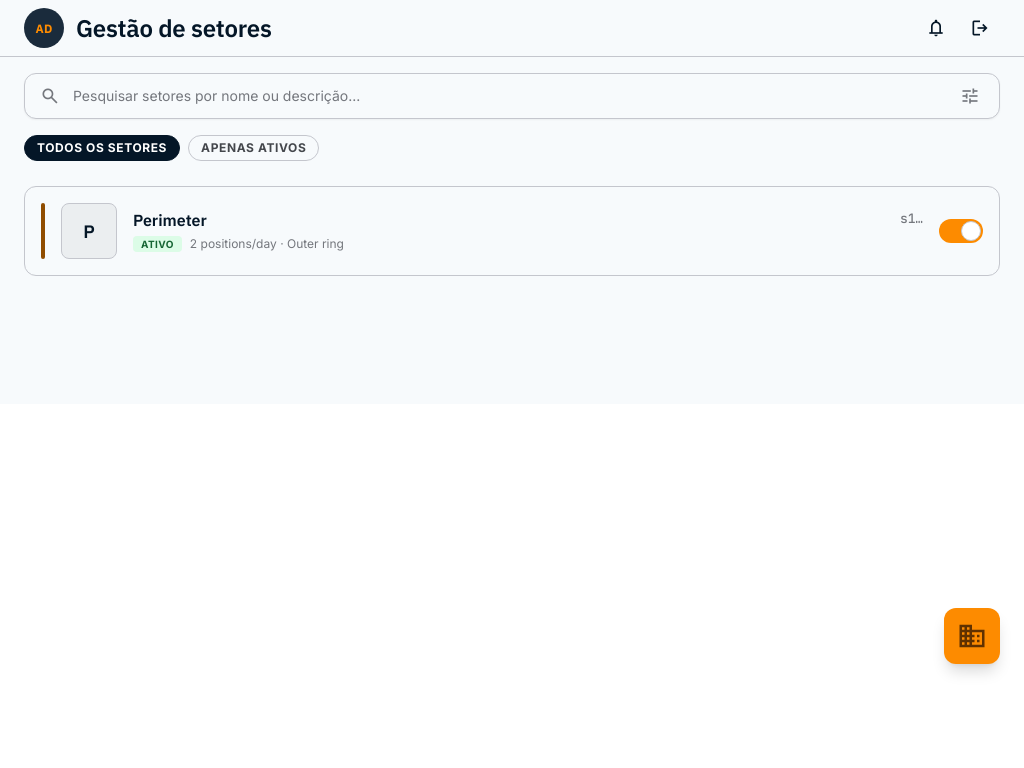
Test: SectorsPage › submits create and refreshes list
The width and height of the screenshot is (1024, 768).
Expected: the button "Perimeter" is shown, [133,210,207,232]
Click the button named "adicionar setor" at (972, 636), box [944,608,1000,664]
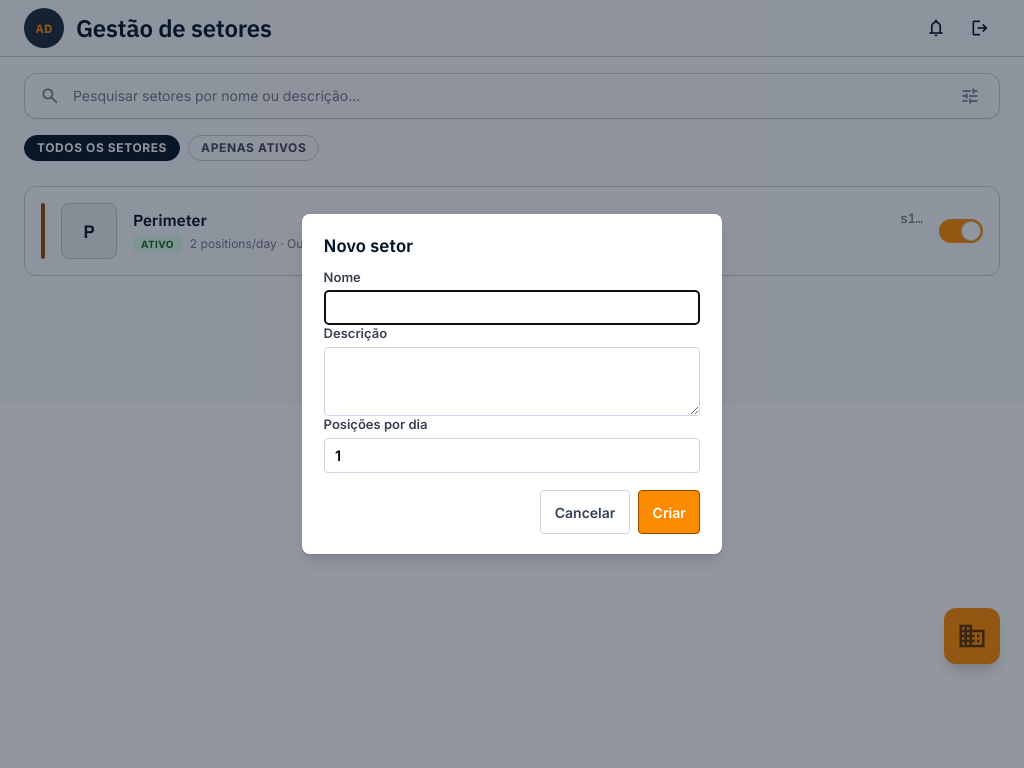
Type "Lobby" into the field labelled "Nome" at (512, 308), box [324,290,700,325]
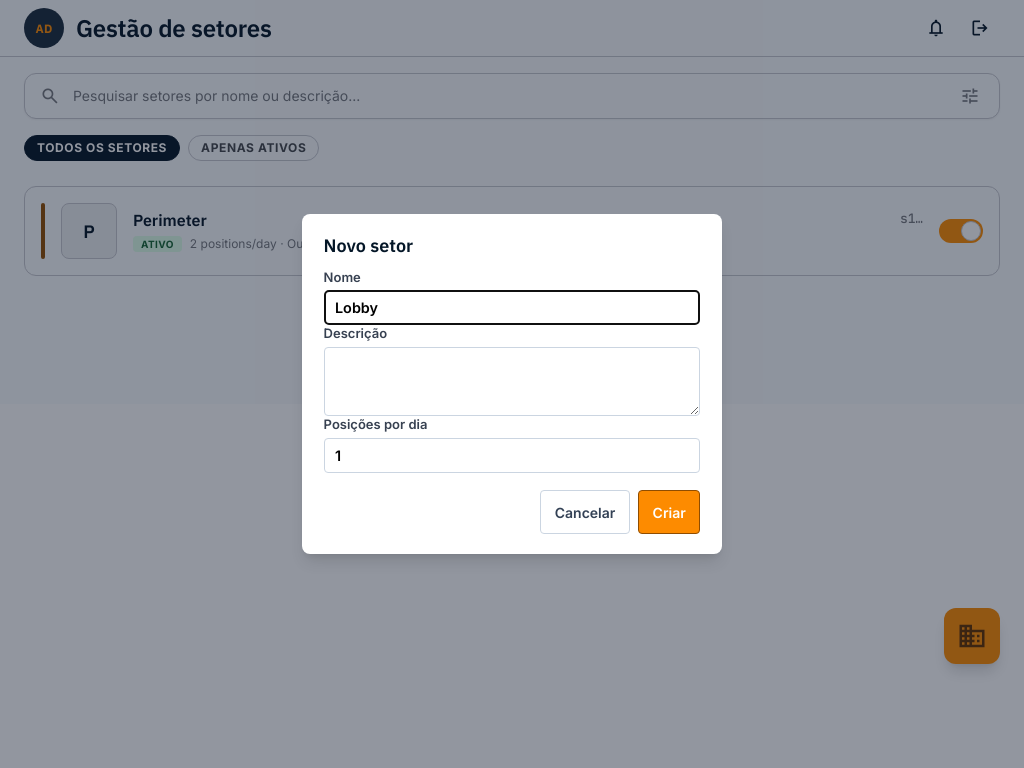
Type "Main entrance" into the text box labelled "Descrição" at (512, 382), box [324,347,700,416]
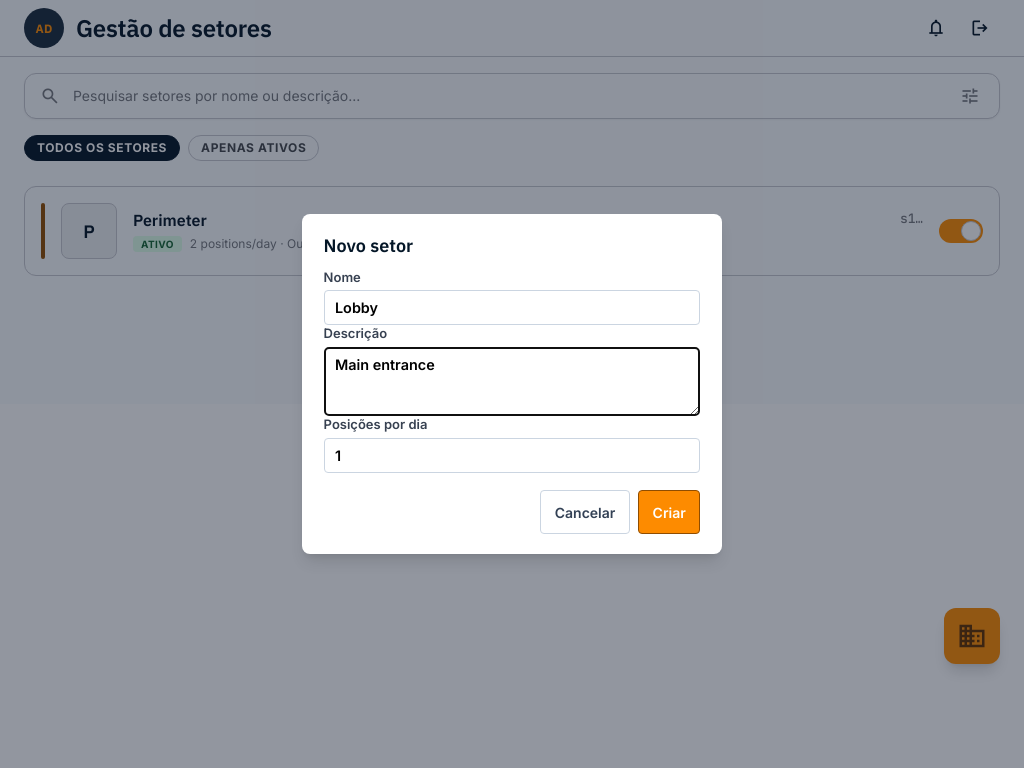
Replace the text in the number field labelled "Posições por dia" with "3" at (512, 455), box [324,438,700,473]
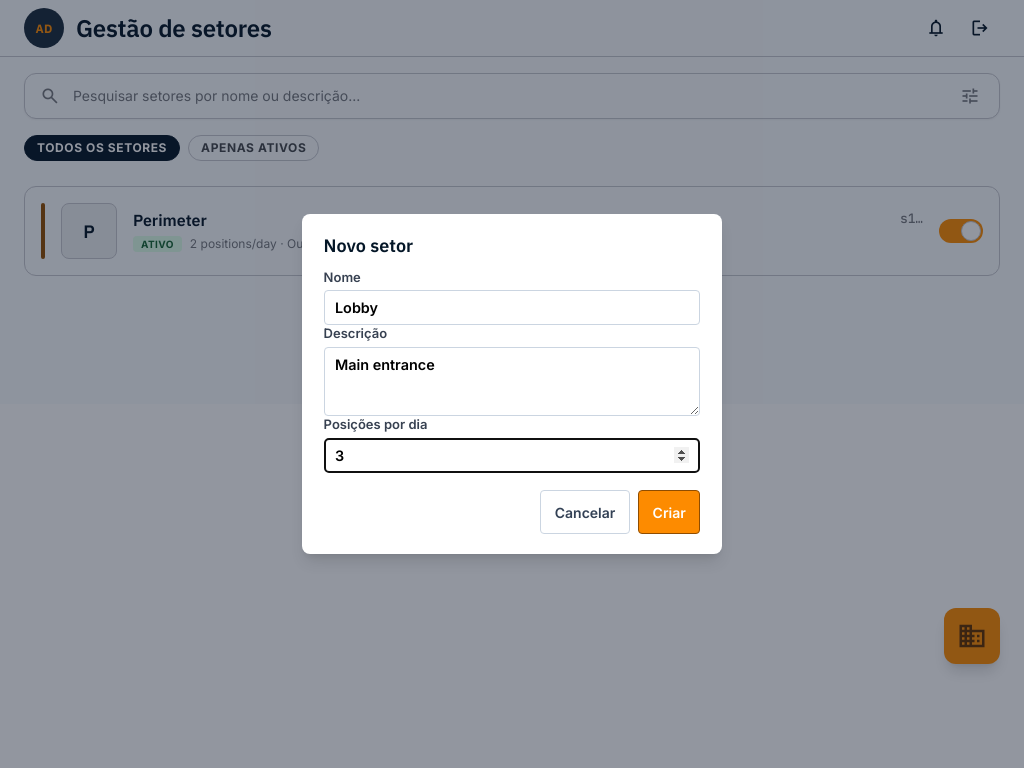
Click the button "Criar" at (669, 512), box [638,490,700,534]
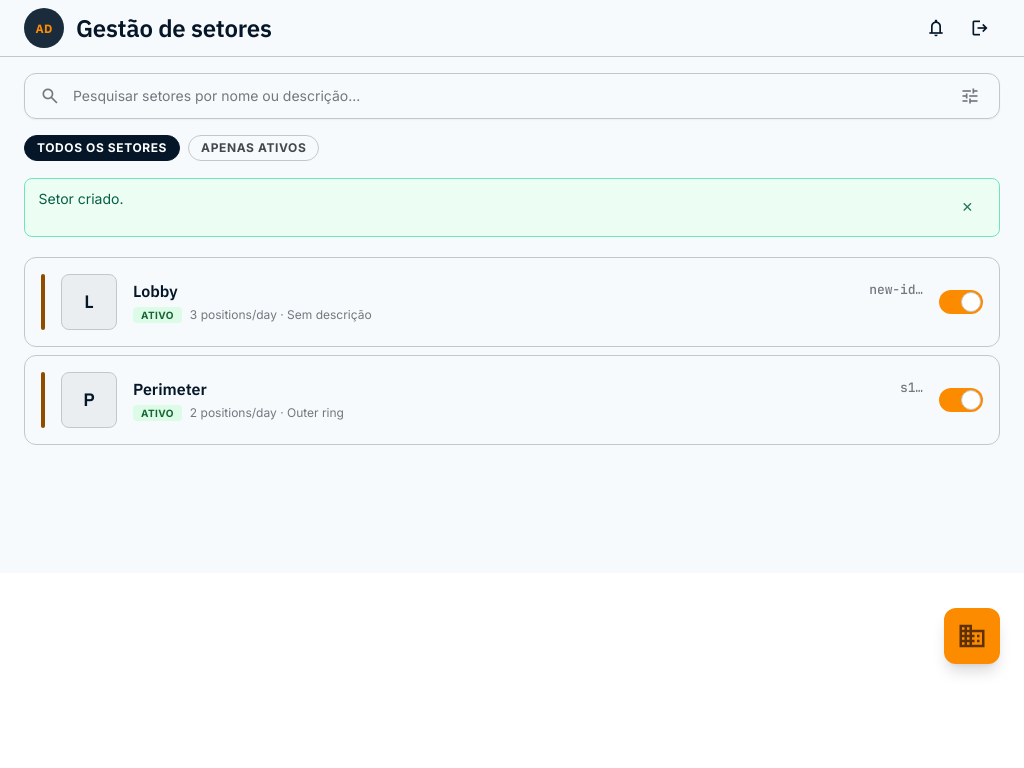
Result: the button "Lobby" is shown at [133,281,178,303]
